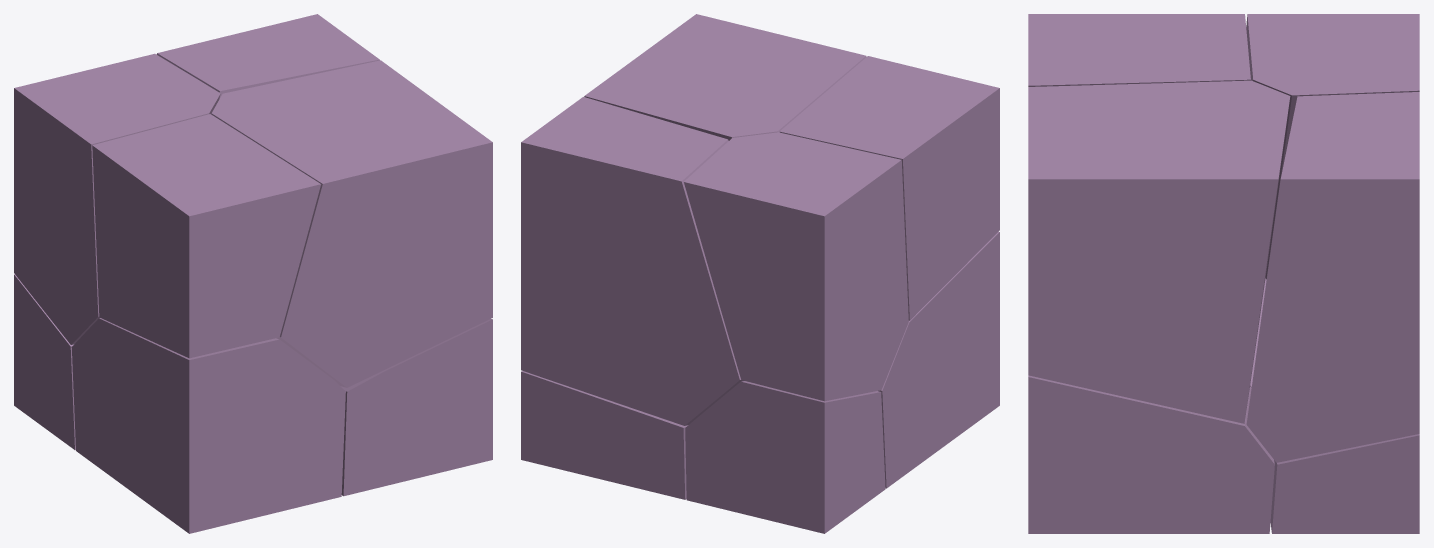
The model's file is BreakyBlockParticles.fbx.
3 renders of one model, left to right at view 1: azimuth 30°, elevation 25°; view 2: azimuth 150°, elevation 25°; view 3: azimuth 270°, elevation 25°, orthographic. The views are drawn at different scales.
Visible parts, largest first — view 1: BreakyBlockParticle.005, BreakyBlockParticle, BreakyBlockParticle.001, BreakyBlockParticle.003, BreakyBlockParticle.004, BreakyBlockParticle.007, BreakyBlockParticle.002; view 2: BreakyBlockParticle.007, BreakyBlockParticle.003, BreakyBlockParticle.001, BreakyBlockParticle.002, BreakyBlockParticle.005, BreakyBlockParticle, BreakyBlockParticle.006; view 3: BreakyBlockParticle.005, BreakyBlockParticle.007, BreakyBlockParticle.004, BreakyBlockParticle.001, BreakyBlockParticle.003, BreakyBlockParticle.006.
Boxes of the visible parts, x1,y1,x2,y2 form: BreakyBlockParticle.005: (211,60,492,387); BreakyBlockParticle: (71,318,345,533); BreakyBlockParticle.001: (92,114,320,358); BreakyBlockParticle.003: (14,53,220,344); BreakyBlockParticle.004: (340,319,492,496); BreakyBlockParticle.007: (156,14,379,98); BreakyBlockParticle.002: (14,274,75,450); BreakyBlockParticle.007: (521,97,744,425); BreakyBlockParticle.003: (684,132,908,401); BreakyBlockParticle.001: (779,56,999,320); BreakyBlockParticle.002: (685,381,885,533); BreakyBlockParticle.005: (584,14,866,140); BreakyBlockParticle: (878,231,999,488); BreakyBlockParticle.006: (521,371,688,499); BreakyBlockParticle.005: (1028,80,1290,423); BreakyBlockParticle.007: (1246,92,1419,462); BreakyBlockParticle.004: (1028,375,1274,533); BreakyBlockParticle.001: (1028,14,1250,86); BreakyBlockParticle.003: (1246,14,1419,279); BreakyBlockParticle.006: (1270,434,1419,533).
Size of the model in its own units: 25.92 by 25.92 by 25.92.
